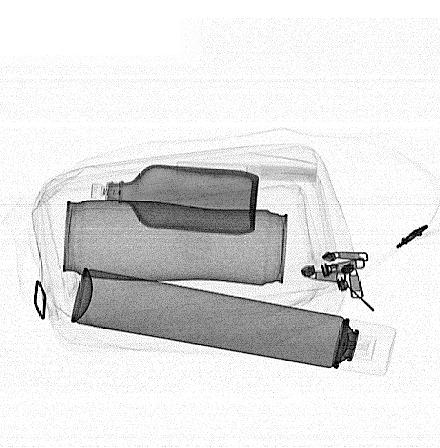Sprayer: (71, 267, 396, 377)
